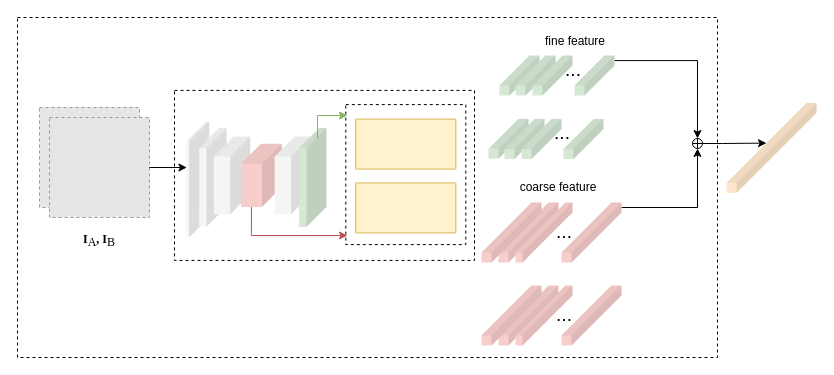
Image size: 834x375. Some labels were removed from this diagram. Grey dashed boxes stand in for pictures. The shapes that lost their labels are listed below. From the top down, each one's centre as x and y in pixels, then its label:
At pixel 405 143: "Self-Attention Layers".
At pixel 405 207: "Cross-Attention Layers".
